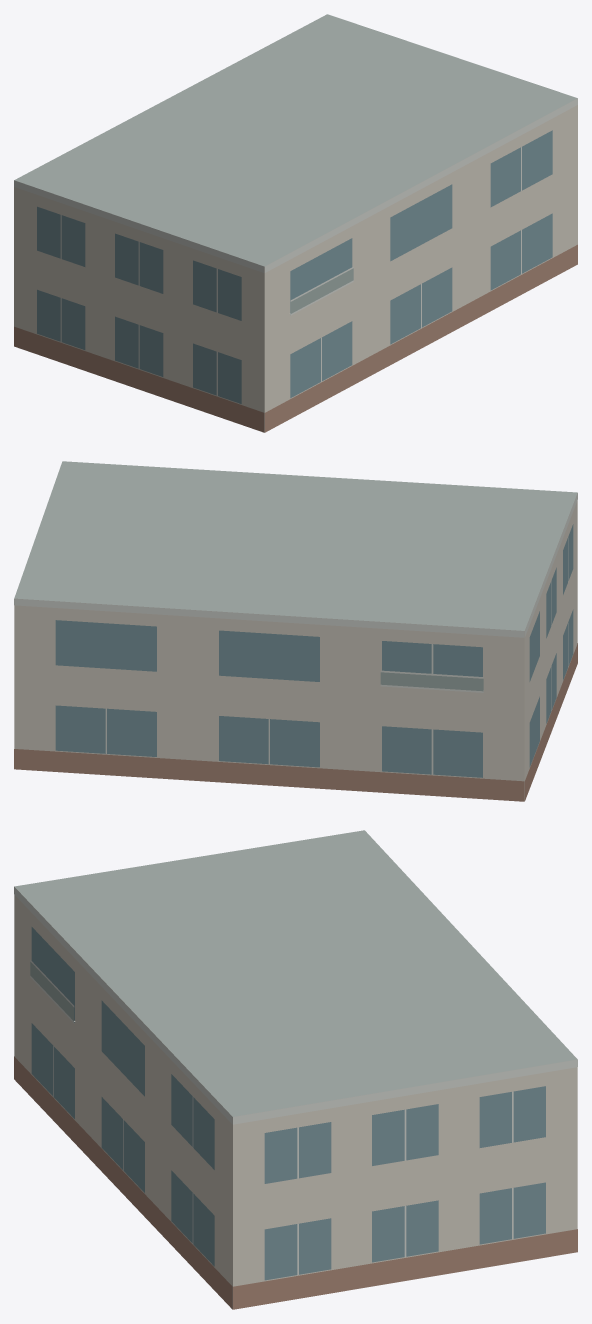
File: survey-upis-32887237.glb
3 renders of one model, top to bottom at view 1: azimuth 30°, elevation 25°; view 2: azimuth 150°, elevation 25°; view 3: azimuth 270°, elevation 25°, orthographic. The views are drawn at different scales.
Visible parts, largest first — view 1: survey-upis-32887237.tmp; view 2: survey-upis-32887237.tmp; view 3: survey-upis-32887237.tmp.
Boxes of the visible parts, <box> form: survey-upis-32887237.tmp: <box>14,14,577,432</box>; survey-upis-32887237.tmp: <box>14,461,577,801</box>; survey-upis-32887237.tmp: <box>14,830,577,1309</box>.
Size of the model in its own units: 19.48 by 6.1 by 16.18.
